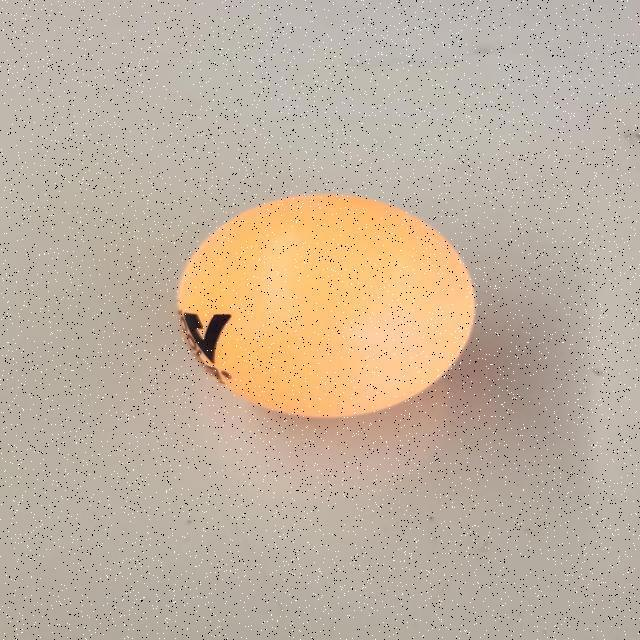ping-pong-ball: (174, 180, 494, 425)
